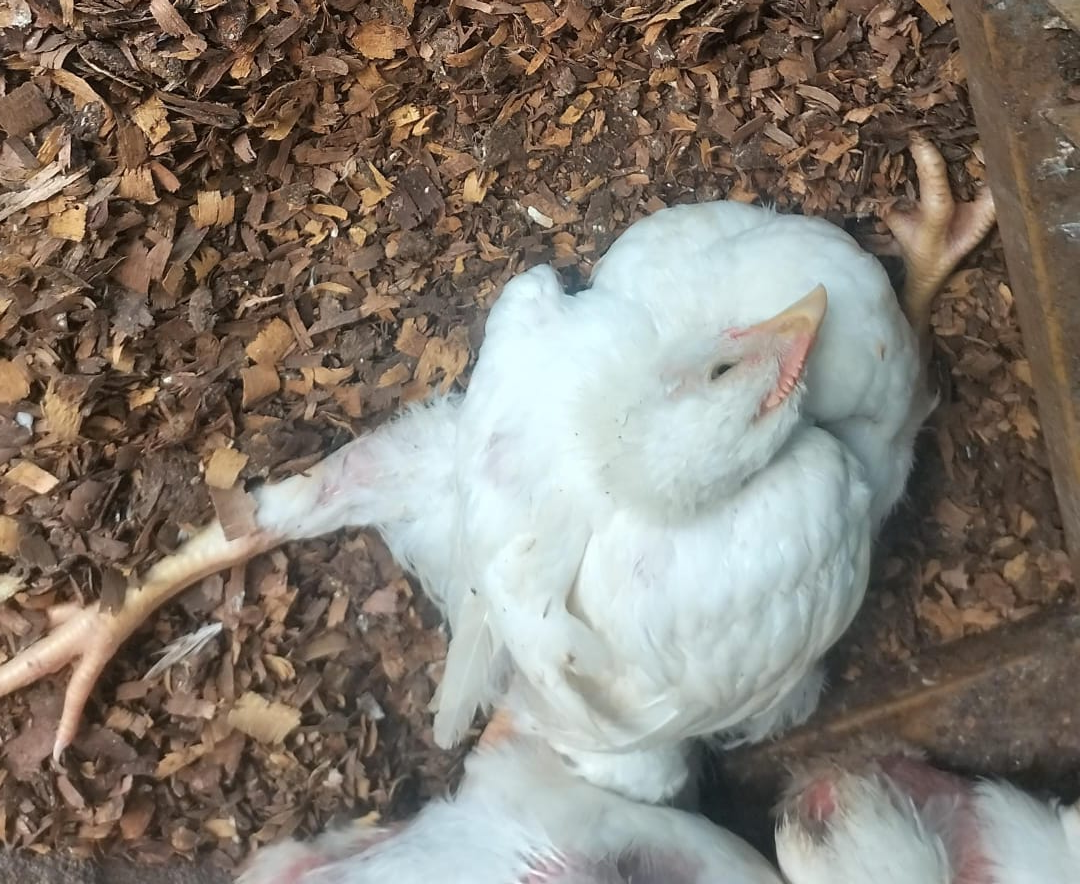Unhealthy: (9, 106, 1004, 791)
